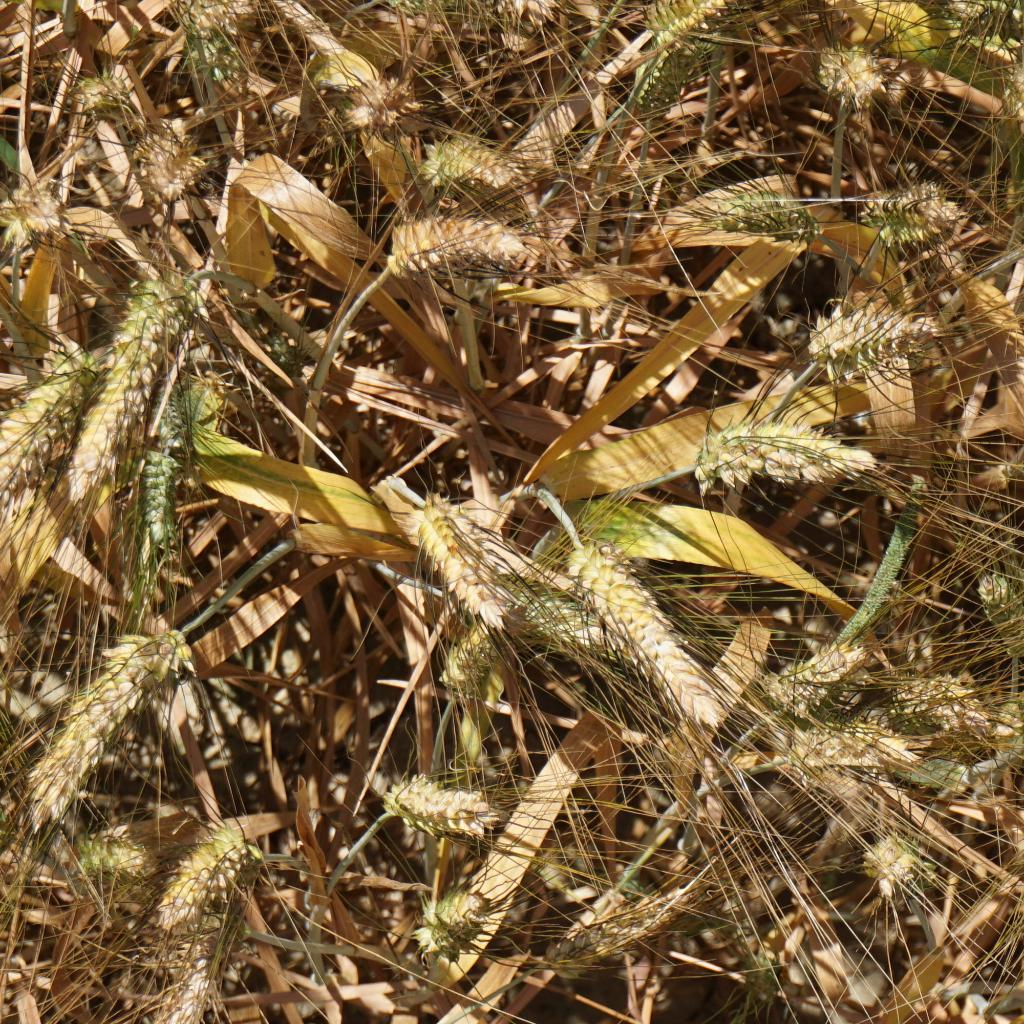0-0: (39, 620, 202, 815), (588, 529, 734, 730), (96, 267, 213, 490), (0, 342, 125, 545), (683, 418, 881, 506), (141, 834, 283, 943), (380, 208, 566, 291), (543, 887, 705, 982), (805, 295, 953, 385), (141, 386, 208, 574), (364, 763, 504, 852), (417, 490, 507, 628), (694, 175, 836, 257), (767, 632, 885, 717), (509, 565, 612, 659), (777, 720, 909, 793), (405, 120, 529, 195), (48, 817, 173, 891), (862, 173, 963, 260), (408, 876, 496, 971), (428, 610, 516, 701), (121, 118, 204, 212), (880, 661, 980, 739), (336, 63, 424, 147), (134, 935, 210, 1024), (633, 27, 707, 108), (813, 40, 891, 115), (179, 13, 232, 121), (975, 561, 1024, 672), (0, 169, 60, 249), (734, 942, 795, 1012), (248, 318, 311, 381), (69, 58, 123, 128), (864, 837, 923, 898), (988, 53, 1024, 147), (935, 0, 1019, 39), (992, 671, 1024, 758), (659, 0, 722, 37), (0, 795, 22, 882)
